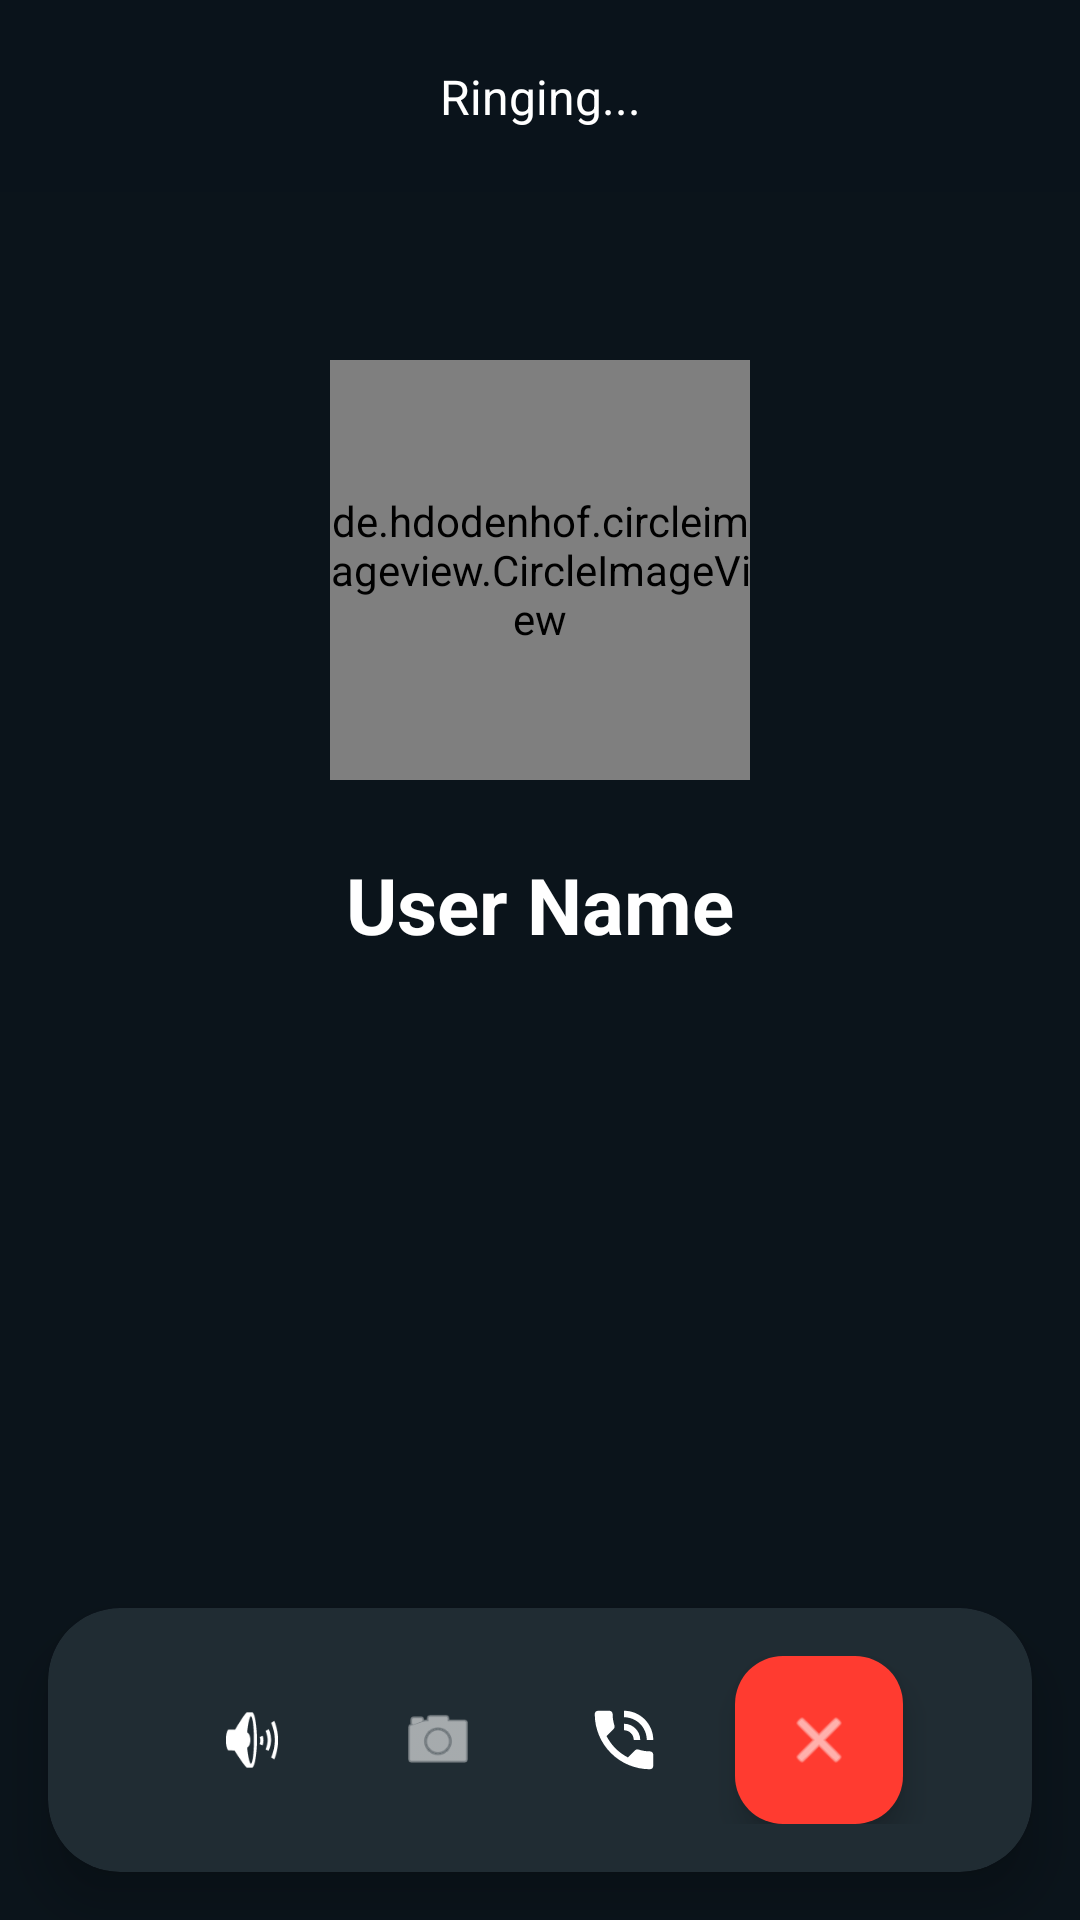

Where icons sit on this 1080px×1920px app screen, as (x1, y1, x2, y2):
camera: (408, 1715, 468, 1763)
close clear cancel: (735, 1656, 903, 1824)
